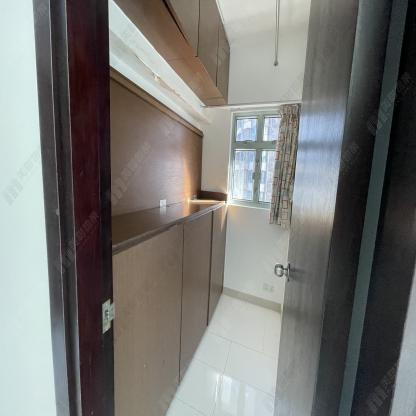Cupboard: (112, 0, 230, 108)
Door: (274, 0, 393, 416)
